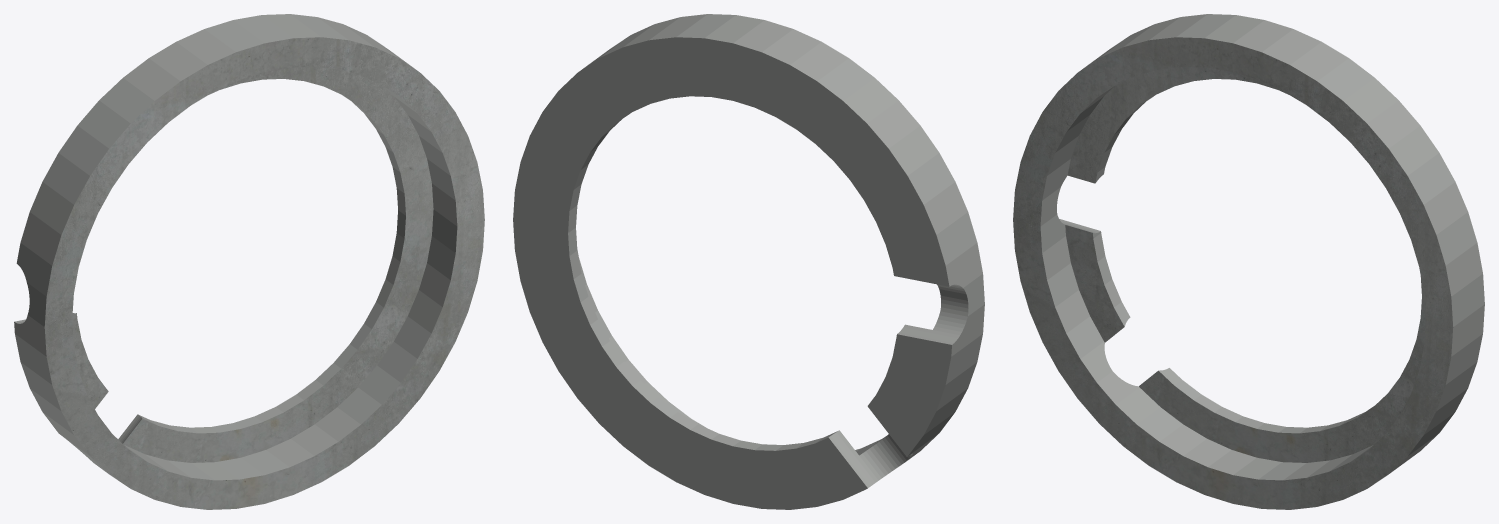
The model's file is pool_008.obj.
3 views of the same model, side by side, from view 1: azimuth 30°, elevation 25°; view 2: azimuth 150°, elevation 25°; view 3: azimuth 330°, elevation 25° (orthographic).
Size of the model in its own units: 16 by 16 by 2.
